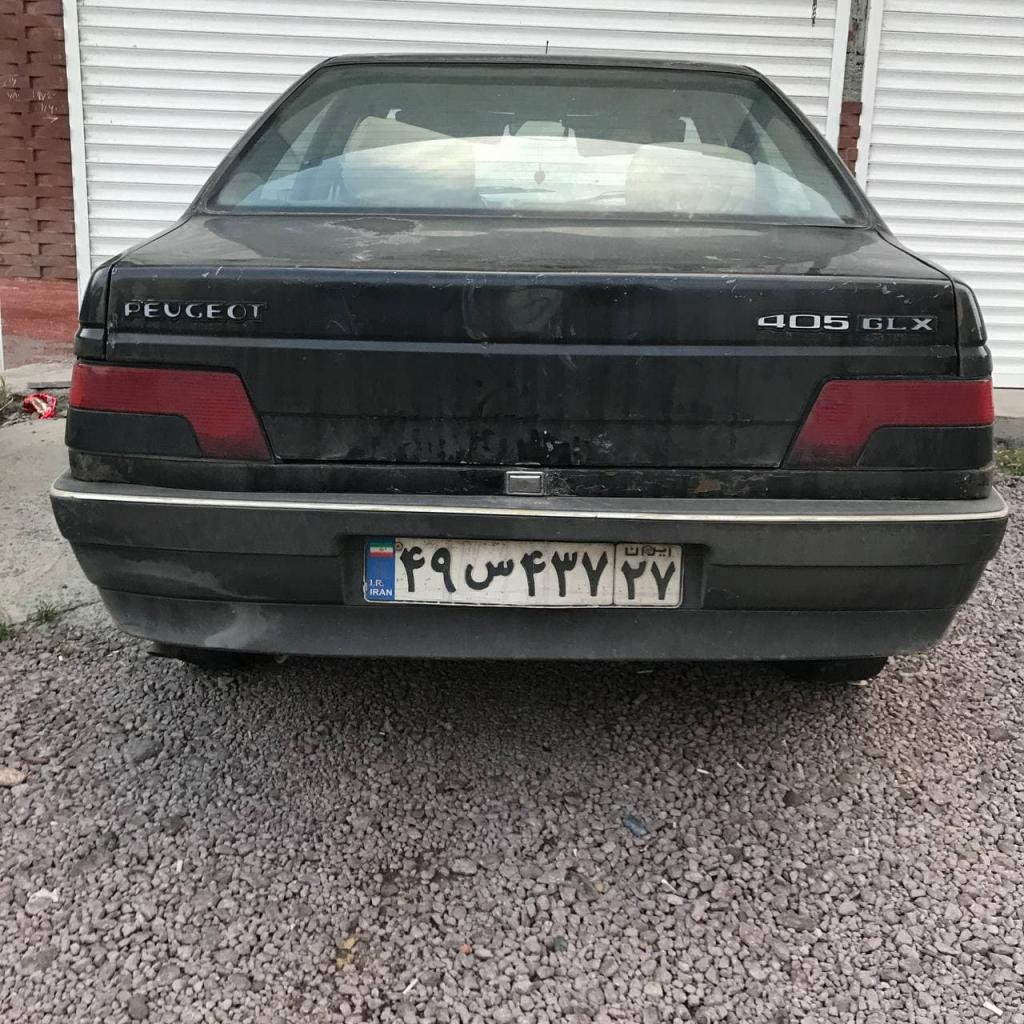Plates: (364, 538, 682, 607)
